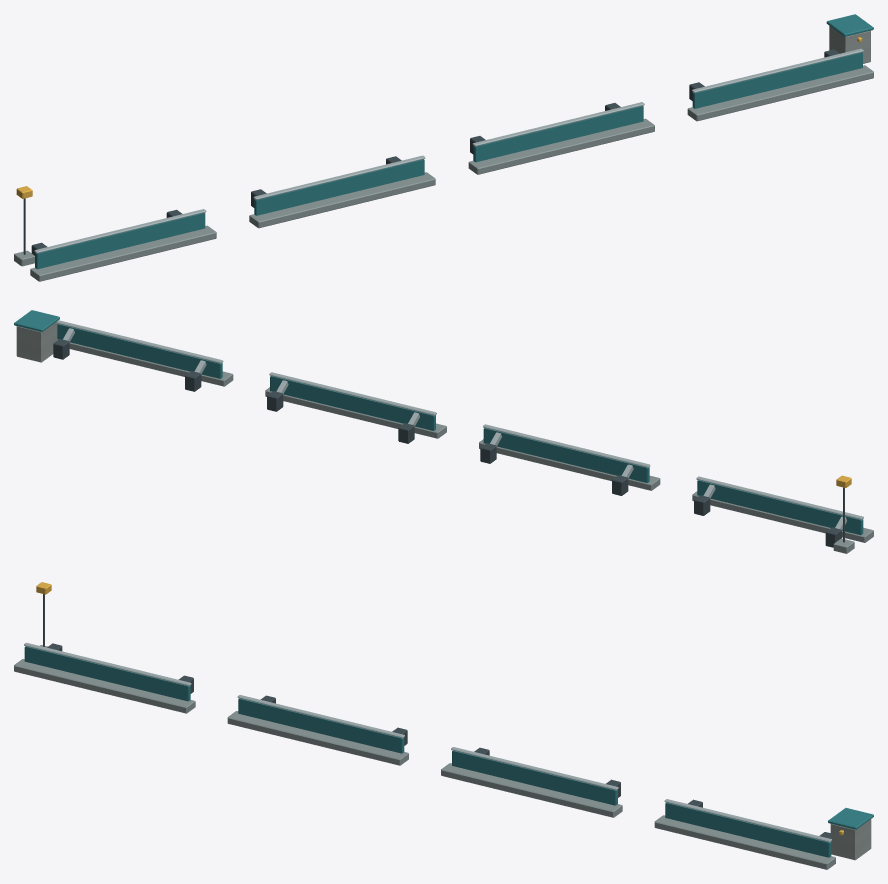
The model's file is AutomaticSpillway_Upgrade_LOD0.glb.
3 views of the same model, one above another, from view 1: azimuth 30°, elevation 25°; view 2: azimuth 150°, elevation 25°; view 3: azimuth 330°, elevation 25° (orthographic). The views are drawn at different scales.
Visible parts, largest first — view 1: AutomaticSpillway_Upgrade_LOD0; view 2: AutomaticSpillway_Upgrade_LOD0; view 3: AutomaticSpillway_Upgrade_LOD0.
Part boxes in pixels (<box>): AutomaticSpillway_Upgrade_LOD0: <box>14,14,873,281</box>; AutomaticSpillway_Upgrade_LOD0: <box>14,310,873,553</box>; AutomaticSpillway_Upgrade_LOD0: <box>14,582,873,869</box>.
Bounding box in the file's own units: 71.75 × 6 × 4.9.
6 materials, 1 textured.
